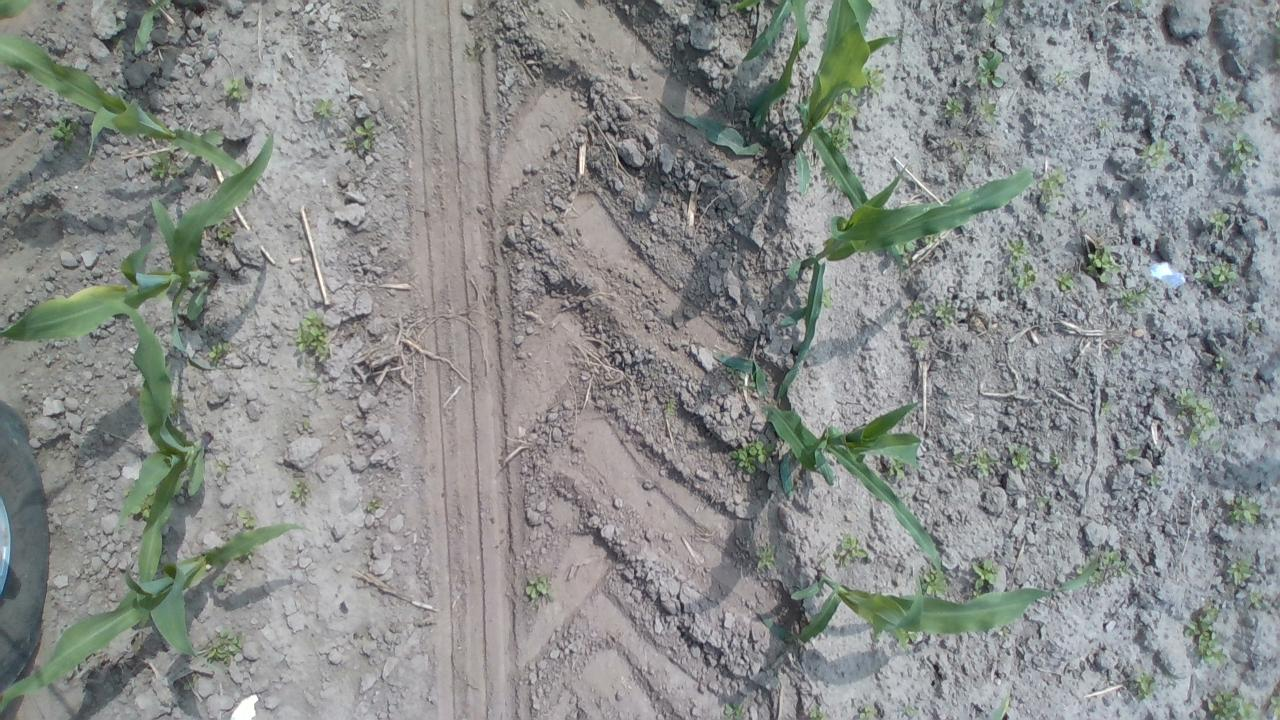Maize: (776, 161, 1034, 402), (0, 524, 312, 716), (0, 128, 276, 342), (712, 348, 942, 578), (90, 295, 214, 630), (760, 538, 1105, 644), (0, 33, 246, 175), (790, 0, 904, 279), (666, 0, 810, 160), (134, 0, 205, 58), (2, 0, 30, 21), (728, 0, 758, 9)
Weeds: (1172, 386, 1221, 450), (1184, 603, 1226, 665), (295, 310, 330, 366), (197, 626, 246, 666), (1083, 240, 1122, 286), (1222, 130, 1256, 182), (1004, 236, 1036, 288), (730, 439, 776, 473), (1191, 265, 1241, 294), (1208, 688, 1252, 720), (974, 46, 1006, 88), (1138, 136, 1172, 172), (1120, 282, 1152, 318), (838, 532, 869, 568), (1211, 93, 1248, 123), (1226, 494, 1260, 526), (1037, 166, 1068, 201), (50, 115, 83, 146), (148, 150, 182, 178), (1098, 548, 1132, 576), (862, 64, 888, 98), (970, 558, 1000, 587), (972, 447, 998, 480), (981, 0, 1008, 30), (754, 543, 779, 575), (826, 122, 852, 152), (922, 566, 947, 596), (831, 94, 856, 124), (354, 116, 375, 150), (1228, 556, 1250, 588), (978, 90, 998, 124), (464, 32, 486, 62), (933, 300, 958, 326), (1210, 207, 1232, 236), (1134, 672, 1156, 701), (525, 574, 549, 600), (940, 96, 966, 120), (1008, 443, 1030, 471), (222, 77, 246, 102), (208, 338, 231, 364), (288, 479, 310, 504), (1052, 269, 1074, 291), (722, 700, 744, 720), (168, 394, 188, 414), (215, 224, 237, 242), (314, 98, 332, 118), (238, 510, 256, 530), (906, 299, 924, 317), (1212, 352, 1230, 370), (1053, 70, 1073, 86), (909, 336, 930, 351), (805, 707, 829, 720), (1097, 114, 1113, 133), (1247, 316, 1263, 335), (342, 136, 358, 154), (858, 704, 876, 720), (1267, 696, 1279, 720), (890, 462, 906, 480), (1247, 590, 1262, 608), (1050, 448, 1062, 469), (738, 373, 754, 388), (962, 156, 974, 176), (1125, 446, 1141, 461), (367, 495, 379, 514), (215, 571, 229, 587), (1090, 570, 1104, 586), (824, 287, 834, 308), (896, 243, 915, 254), (1035, 497, 1049, 511), (952, 450, 966, 464), (215, 458, 228, 473), (902, 706, 918, 718), (115, 21, 130, 33), (1148, 470, 1159, 485), (182, 681, 198, 691), (664, 400, 676, 413), (972, 585, 983, 598), (1102, 400, 1112, 412), (952, 138, 964, 148), (1110, 343, 1120, 354), (726, 367, 738, 376), (302, 417, 310, 430), (924, 236, 937, 244), (1133, 0, 1144, 8), (1154, 385, 1162, 394)
